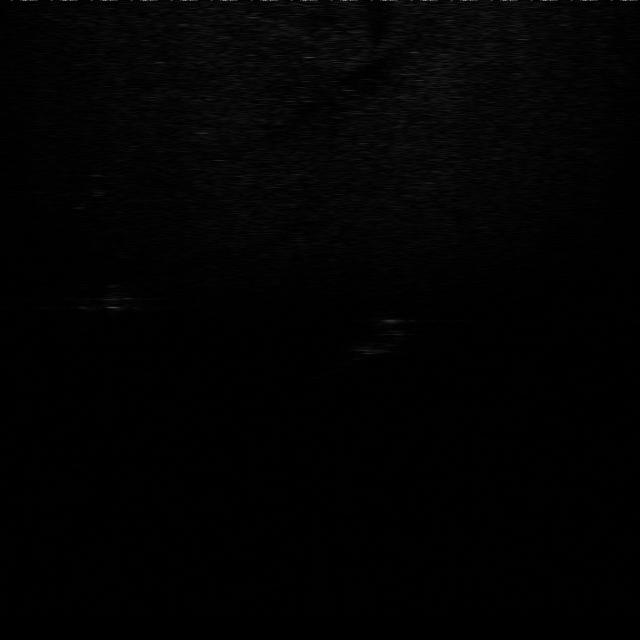circle cage: (80, 278, 156, 316)
tyre: (350, 309, 422, 357)
